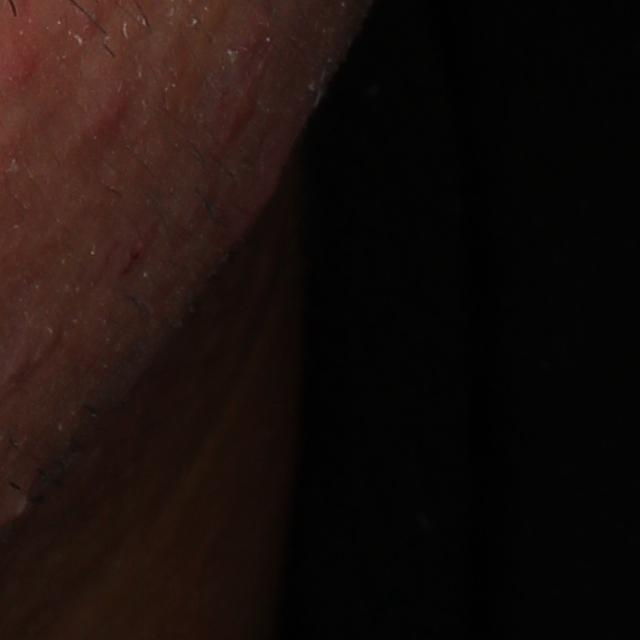papule: (209, 64, 269, 156), (220, 160, 278, 252), (96, 62, 135, 138)
